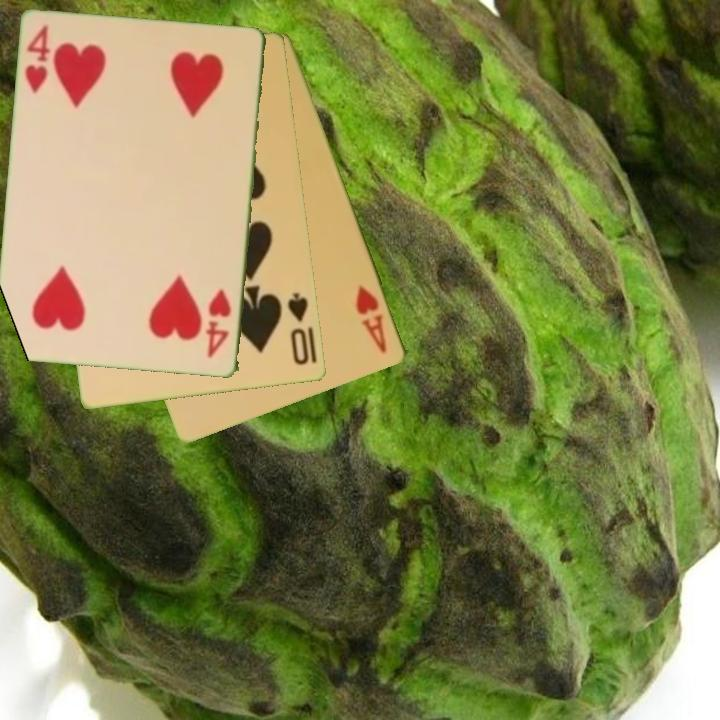10s: (284, 289, 313, 369)
4h: (21, 22, 54, 97), (204, 286, 235, 361)
Ah: (352, 281, 390, 357)
